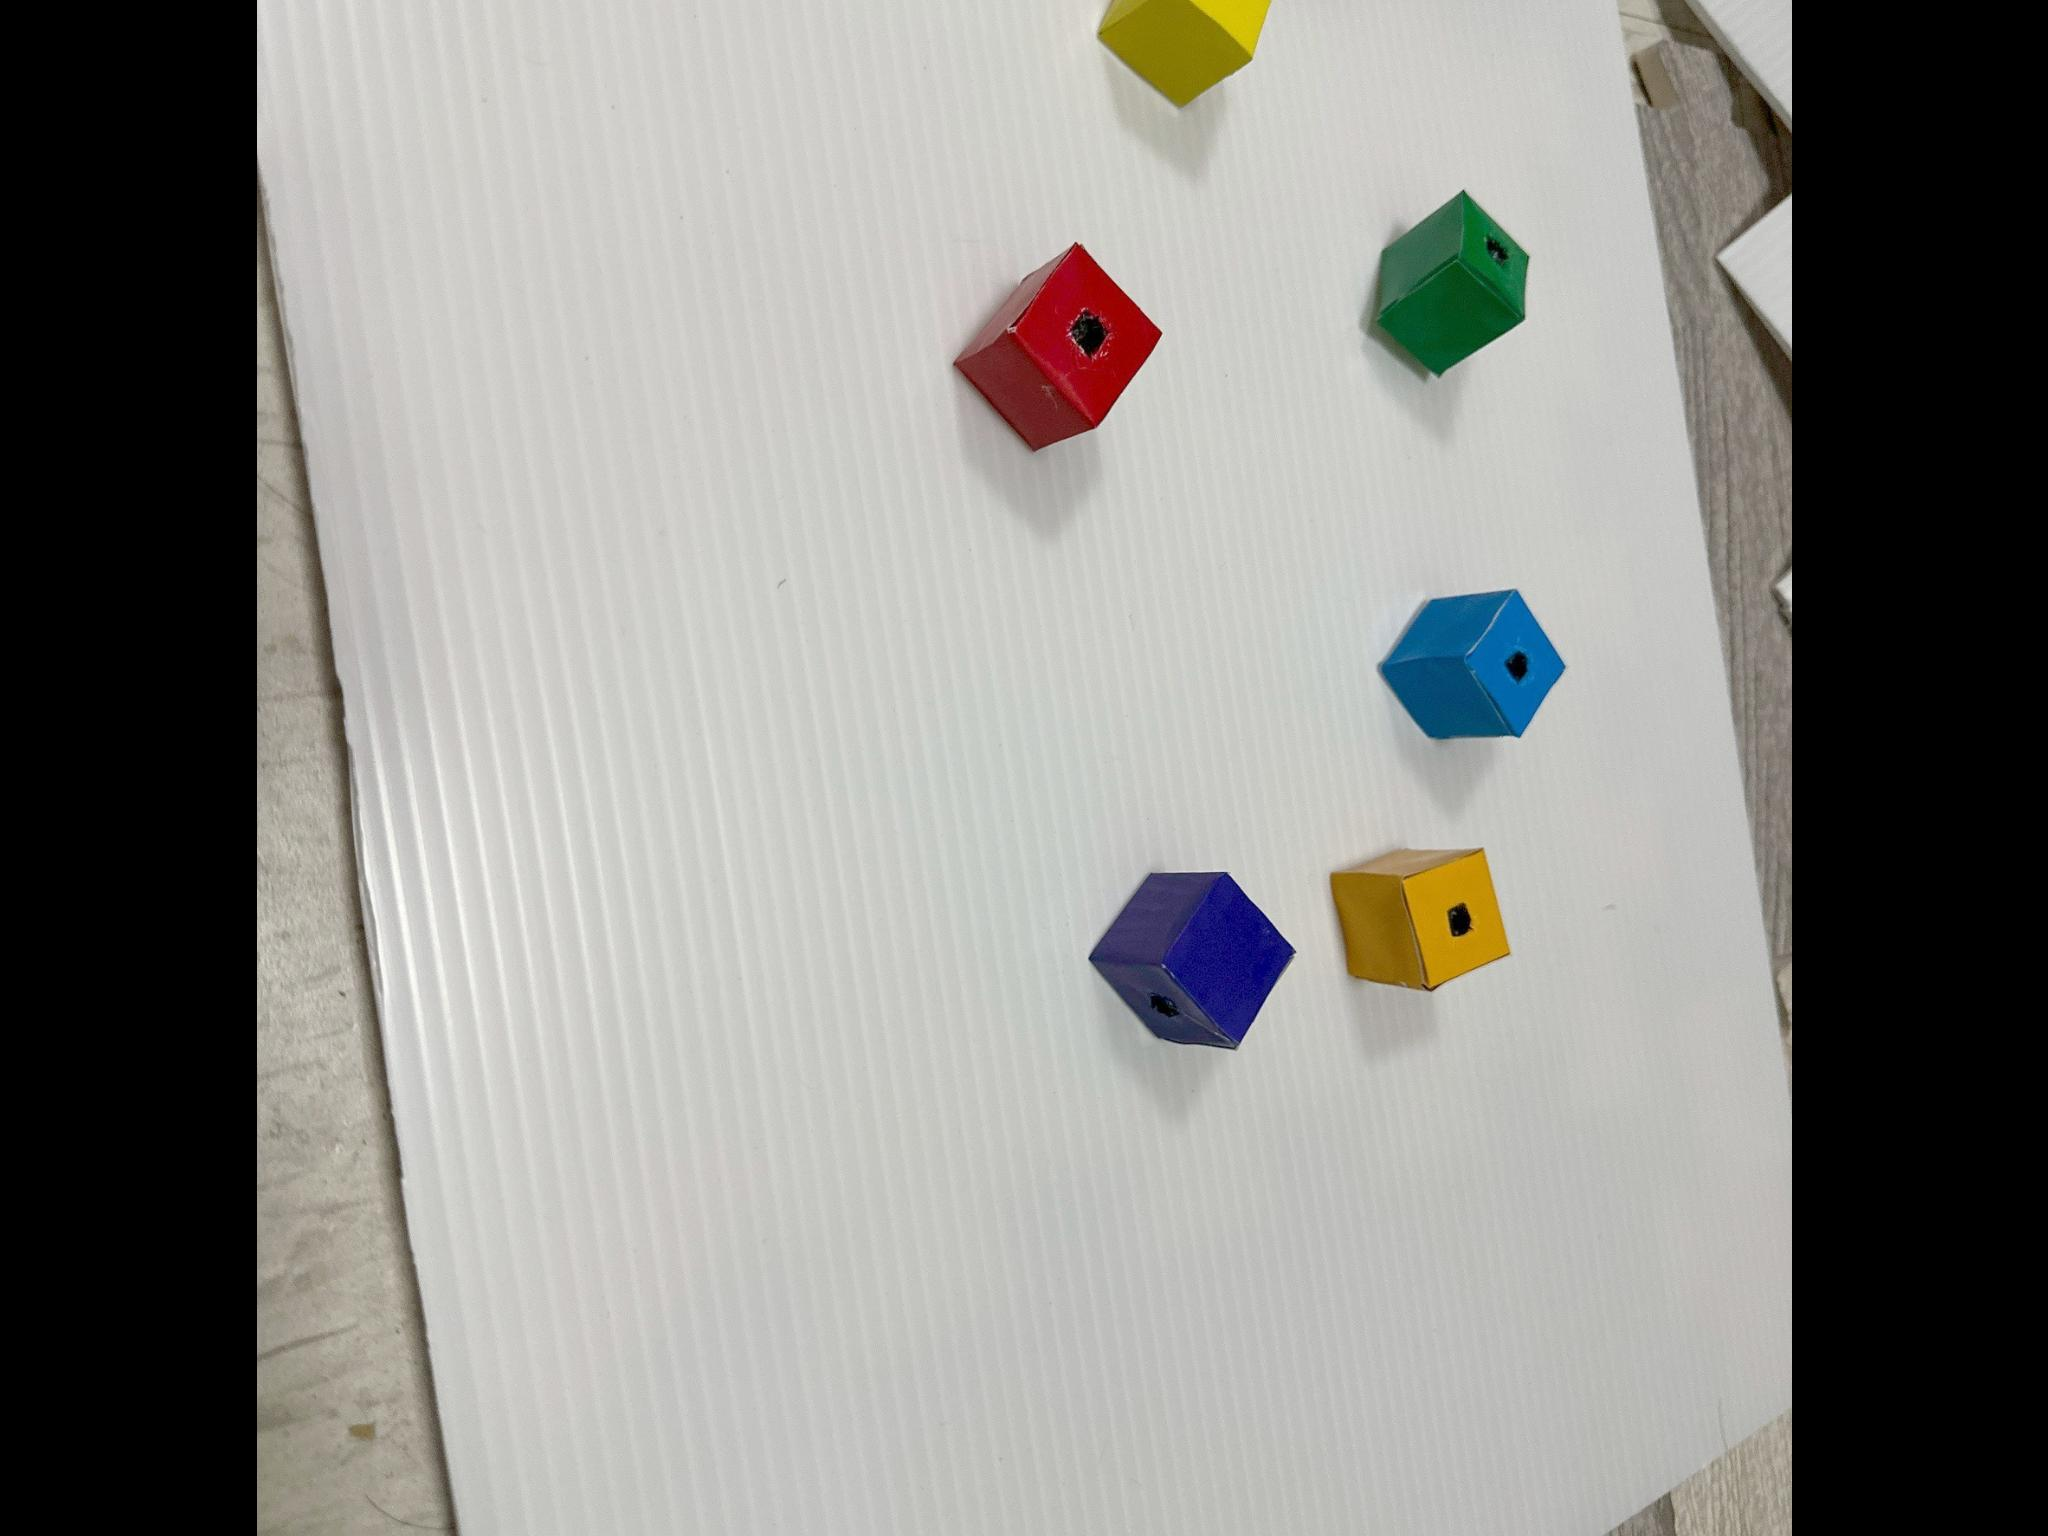base: (953, 244, 1159, 450), (1090, 873, 1292, 1049), (1379, 591, 1564, 739), (1377, 192, 1527, 374), (1330, 849, 1509, 989), (1097, 0, 1271, 106)
